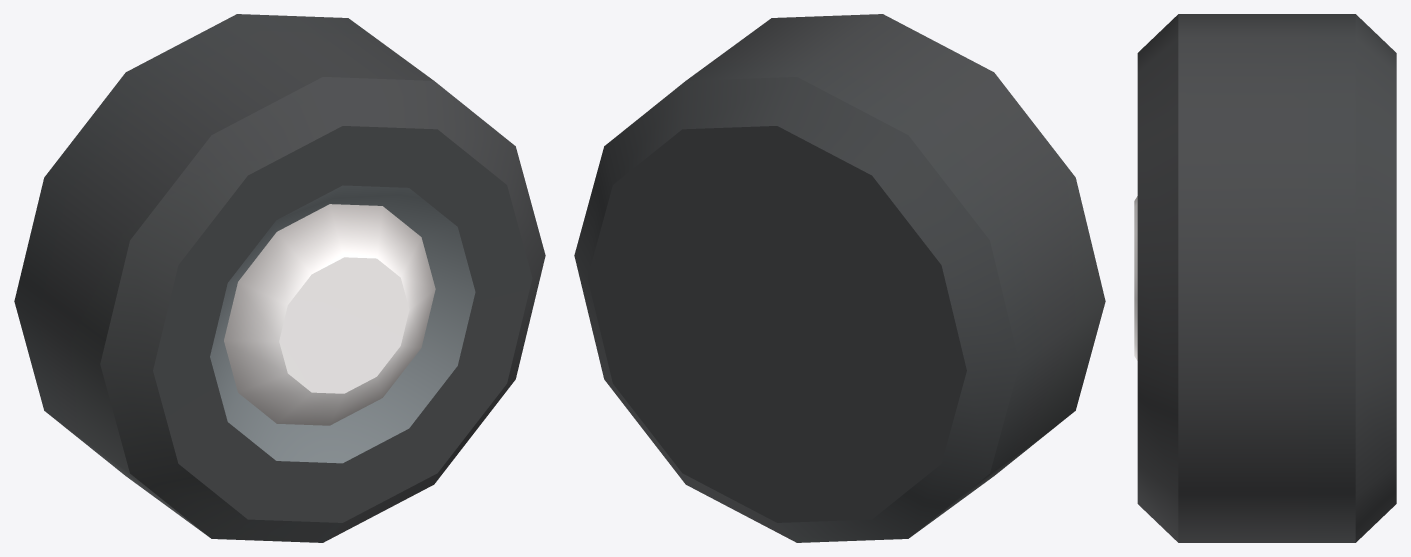
Rendered from Wheel_01.glb.
3 renders of one model, left to right at view 1: azimuth 30°, elevation 25°; view 2: azimuth 150°, elevation 25°; view 3: azimuth 270°, elevation 25°, orthographic. The views are drawn at different scales.
Parts seen in each view (by area): view 1: Wheel_01; view 2: Wheel_01; view 3: Wheel_01.
Part boxes in pixels (left/top/right/bottom): Wheel_01: left=14, top=14, right=545, bottom=542; Wheel_01: left=574, top=14, right=1105, bottom=542; Wheel_01: left=1134, top=14, right=1396, bottom=542.
Size of the model in its own units: 0.8479 by 0.8479 by 0.419.
Materials: 1 (1 with a texture image).
